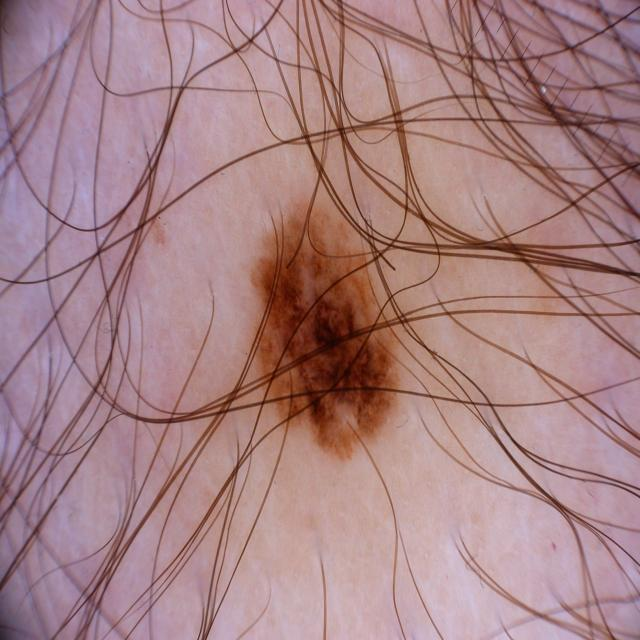Benign: (243, 198, 405, 468)
